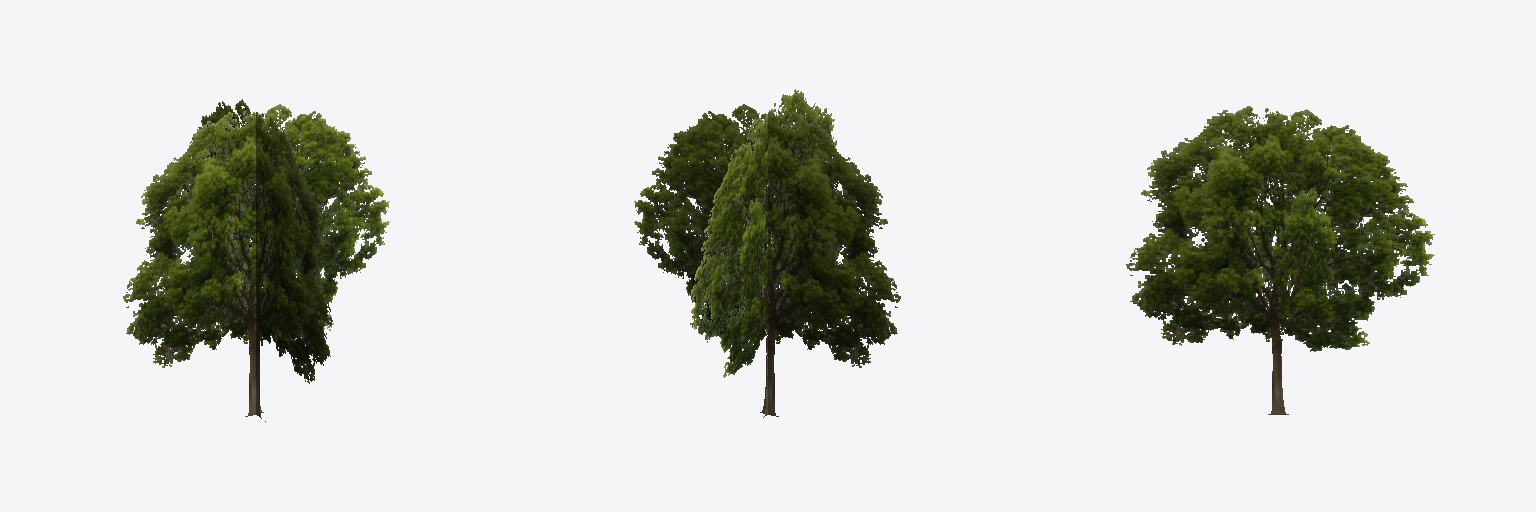
The picture shows the model from 3 angles: view 1: azimuth 30°, elevation 25°; view 2: azimuth 150°, elevation 25°; view 3: azimuth 270°, elevation 25°; orthographic projection.
Visible parts, largest first — view 1: Grid.001, Grid; view 2: Grid.001, Grid; view 3: Grid.
Part boxes in pixels (bbox=[...]): Grid.001: bbox=[123, 104, 389, 416]; Grid: bbox=[181, 99, 332, 421]; Grid.001: bbox=[634, 104, 900, 416]; Grid: bbox=[691, 89, 840, 417]; Grid: bbox=[1126, 106, 1434, 414].
Bounding box in the file's own units: 4.5 × 5 × 4.5.
2 materials, 1 textured.